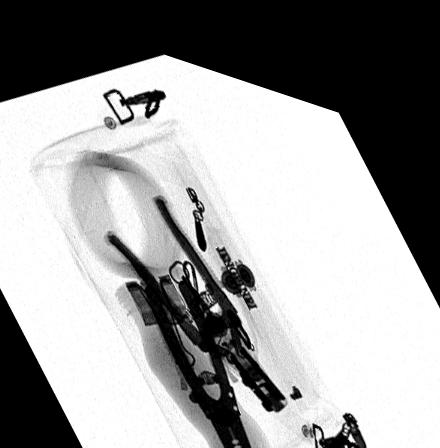Pliers: (104, 185, 286, 396), (141, 263, 258, 448)
